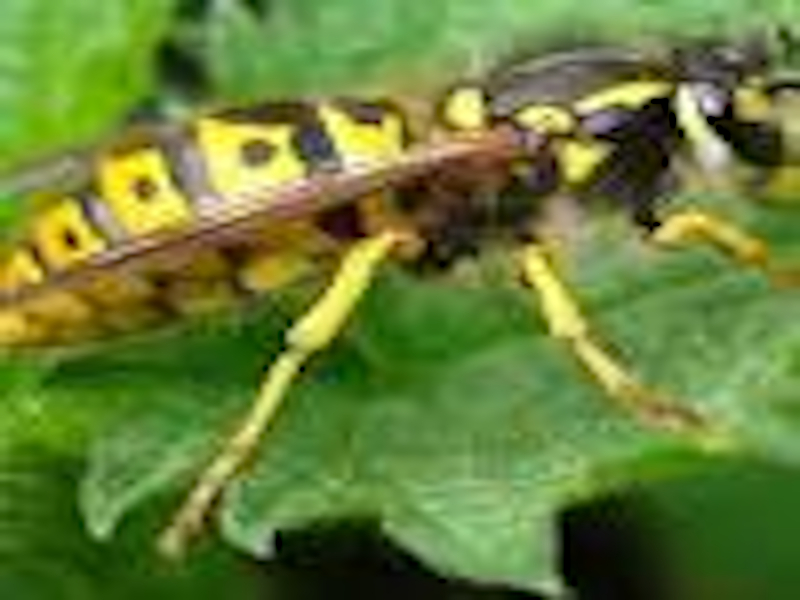chax: (6, 12, 800, 543)
